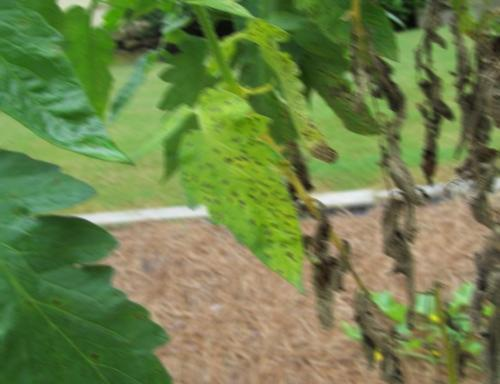Tomato Septoria leaf spot: (176, 72, 311, 293)
